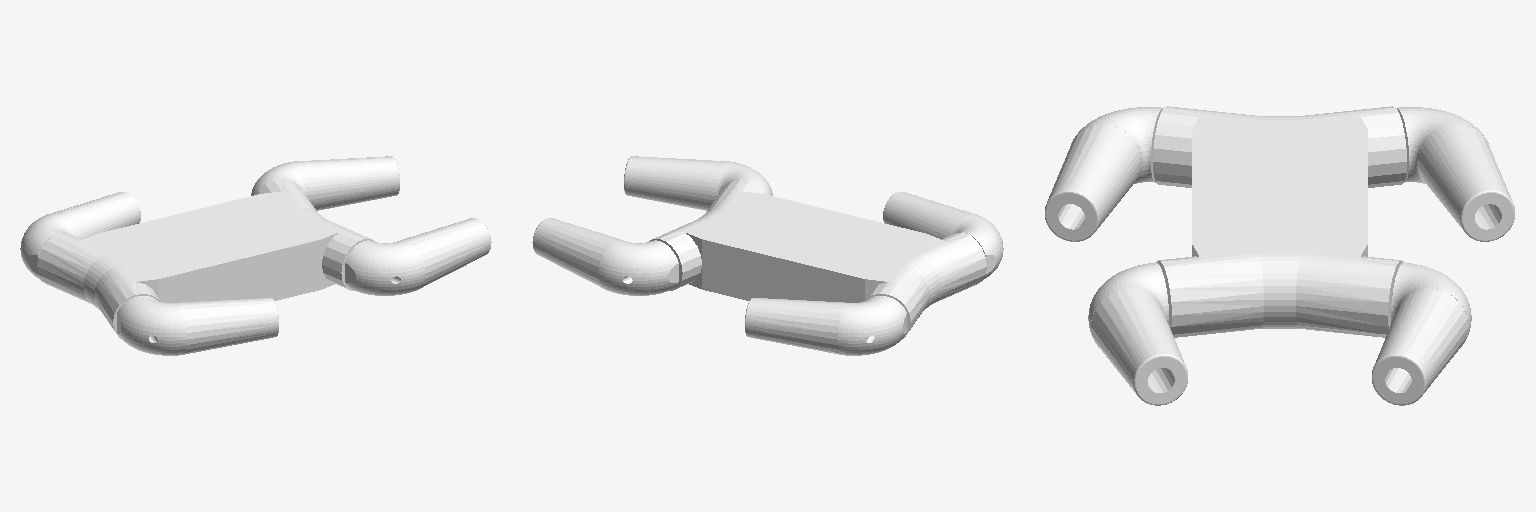
URDF robot description (14_degree):
<?xml version="1.0" encoding="utf-8"?>
<!-- This URDF was automatically created by SolidWorks to URDF Exporter! Originally created by [author] ([email redacted]) 
     Commit Version: 1.5.1-0-g916b5db  Build Version: 1.5.7152.31018
     For more information, please see http://wiki.ros.org/sw_urdf_exporter -->
<robot
  name="14_degree">
  <link
    name="base_link">
    <inertial>
      <origin
        xyz="1.3878E-17 4.7565E-08 -3.4694E-18"
        rpy="0 0 0" />
      <mass
        value="2.942" />
      <inertia
        ixx="0.0106882"
        ixy="1.2077E-18"
        ixz="-1.0239E-10"
        iyy="0.0422225"
        iyz="2.7348E-18"
        izz="0.0502856" />
    </inertial>
    <visual>
      <origin
        xyz="0 0 0"
        rpy="0 0 0" />
      <geometry>
        <mesh
          filename="package://14_degree/meshes/base_link.STL" />
      </geometry>
      <material
        name="">
        <color
          rgba="1 1 1 1" />
      </material>
    </visual>
    <collision>
      <origin
        xyz="0 0 0"
        rpy="0 0 0" />
      <geometry>
        <mesh
          filename="package://14_degree/meshes/base_link.STL" />
      </geometry>
    </collision>
  </link>
  <link
    name="left_front_link">
    <inertial>
      <origin
        xyz="-1.9746E-08 0.05683 -0.036011"
        rpy="0 0 0" />
      <mass
        value="0.095" />
      <inertia
        ixx="0.0002672"
        ixy="7.6864E-10"
        ixz="7.6812E-10"
        iyy="0.0000540"
        iyz="2.33E-05"
        izz="0.0002642" />
    </inertial>
    <visual>
      <origin
        xyz="0 0 0"
        rpy="0 0 0" />
      <geometry>
        <mesh
          filename="package://14_degree/meshes/left_front_link.STL" />
      </geometry>
      <material
        name="">
        <color
          rgba="1 1 1 1" />
      </material>
    </visual>
    <collision>
      <origin
        xyz="0 0 0"
        rpy="0 0 0" />
      <geometry>
        <mesh
          filename="package://14_degree/meshes/left_front_link.STL" />
      </geometry>
    </collision>
  </link>
  <joint
    name="left_front_leg"
    type="continuous">
    <origin
      xyz="0.15492 0.09994 0"
      rpy="1.8151 1.5708 0" />
    <parent
      link="base_link" />
    <child
      link="left_front_link" />
    <axis
      xyz="0 0 -1" />
    <limit
      effort="5"
      velocity="487" />
  </joint>
  <link
    name="right_front_link">
    <inertial>
      <origin
        xyz="1.9746E-08 0.05683 0.036011"
        rpy="0 0 0" />
      <mass
        value="0.095" />
      <inertia
        ixx="0.0002672"
        ixy="-7.6864E-10"
        ixz="7.6812E-10"
        iyy="0.0000540"
        iyz="-2.33E-05"
        izz="0.0002642" />
    </inertial>
    <visual>
      <origin
        xyz="0 0 0"
        rpy="0 0 0" />
      <geometry>
        <mesh
          filename="package://14_degree/meshes/right_front_link.STL" />
      </geometry>
      <material
        name="">
        <color
          rgba="1 1 1 1" />
      </material>
    </visual>
    <collision>
      <origin
        xyz="0 0 0"
        rpy="0 0 0" />
      <geometry>
        <mesh
          filename="package://14_degree/meshes/right_front_link.STL" />
      </geometry>
    </collision>
  </link>
  <joint
    name="right_front_leg"
    type="continuous">
    <origin
      xyz="0.15492 -0.09994 0"
      rpy="1.3265 1.5708 0" />
    <parent
      link="base_link" />
    <child
      link="right_front_link" />
    <axis
      xyz="0 0 1" />
    <limit
      effort="5"
      velocity="487" />
  </joint>
  <link
    name="right_back_link">
    <inertial>
      <origin
        xyz="8.6847E-08 0.056834 0.03601"
        rpy="0 0 0" />
      <mass
        value="0.095" />
      <inertia
        ixx="0.0002672"
        ixy="-5.4997E-10"
        ixz="2.5622E-10"
        iyy="0.0000540"
        iyz="-2.33E-05"
        izz="0.0002642" />
    </inertial>
    <visual>
      <origin
        xyz="0 0 0"
        rpy="0 0 0" />
      <geometry>
        <mesh
          filename="package://14_degree/meshes/right_back_link.STL" />
      </geometry>
      <material
        name="">
        <color
          rgba="1 1 1 1" />
      </material>
    </visual>
    <collision>
      <origin
        xyz="0 0 0"
        rpy="0 0 0" />
      <geometry>
        <mesh
          filename="package://14_degree/meshes/right_back_link.STL" />
      </geometry>
    </collision>
  </link>
  <joint
    name="right_back_leg"
    type="continuous">
    <origin
      xyz="-0.15492 -0.09994 0"
      rpy="1.8151 1.5708 0" />
    <parent
      link="base_link" />
    <child
      link="right_back_link" />
    <axis
      xyz="0 0 1" />
    <limit
      effort="5"
      velocity="487" />
  </joint>
  <link
    name="left_back_link">
    <inertial>
      <origin
        xyz="-8.6847E-08 0.056834 -0.03601"
        rpy="0 0 0" />
      <mass
        value="0.095" />
      <inertia
        ixx="0.0002672"
        ixy="5.4997E-10"
        ixz="2.5622E-10"
        iyy="0.0000540"
        iyz="2.33E-05"
        izz="0.0002642" />
    </inertial>
    <visual>
      <origin
        xyz="0 0 0"
        rpy="0 0 0" />
      <geometry>
        <mesh
          filename="package://14_degree/meshes/left_back_link.STL" />
      </geometry>
      <material
        name="">
        <color
          rgba="1 1 1 1" />
      </material>
    </visual>
    <collision>
      <origin
        xyz="0 0 0"
        rpy="0 0 0" />
      <geometry>
        <mesh
          filename="package://14_degree/meshes/left_back_link.STL" />
      </geometry>
    </collision>
  </link>
  <joint
    name="left_back_leg"
    type="continuous">
    <origin
      xyz="-0.15492 0.09994 0"
      rpy="1.3265 1.5708 0" />
    <parent
      link="base_link" />
    <child
      link="left_back_link" />
    <axis
      xyz="0 0 -1" />
    <limit
      effort="5"
      velocity="487" />
  </joint>
</robot>

--- Facts derived from the render (not from the file) ---
Views: 3 orthographic renders of the robot side by side, from view 1: azimuth 30°, elevation 25°; view 2: azimuth 150°, elevation 25°; view 3: azimuth 270°, elevation 25°.
Model 14_degree with 5 links and 4 joints (4 continuous), rooted at base_link, posed all joints at 0.
Links seen in each view (by area): view 1: base_link, right_back_link, right_front_link, left_front_link, left_back_link; view 2: base_link, left_back_link, left_front_link, right_front_link, right_back_link; view 3: base_link, right_back_link, left_back_link, right_front_link, left_front_link.
Link boxes in pixels (x1,y1,x2,y2): base_link: (37, 179, 374, 338); right_back_link: (117, 296, 278, 355); right_front_link: (345, 218, 491, 295); left_front_link: (251, 156, 399, 210); left_back_link: (20, 192, 140, 279); base_link: (649, 179, 986, 338); left_back_link: (745, 296, 906, 355); left_front_link: (532, 218, 678, 295); right_front_link: (624, 156, 772, 210); right_back_link: (883, 192, 1003, 279); base_link: (1153, 106, 1406, 337); right_back_link: (1045, 107, 1162, 241); left_back_link: (1397, 107, 1514, 241); right_front_link: (1088, 262, 1187, 405); left_front_link: (1372, 262, 1471, 405).
Bounding box of the posed robot: 0.5119 × 0.4003 × 0.0672 m (x, y, z).
Meshes: 5 distinct files referenced, 5 mesh visuals loaded (5 binary STL).